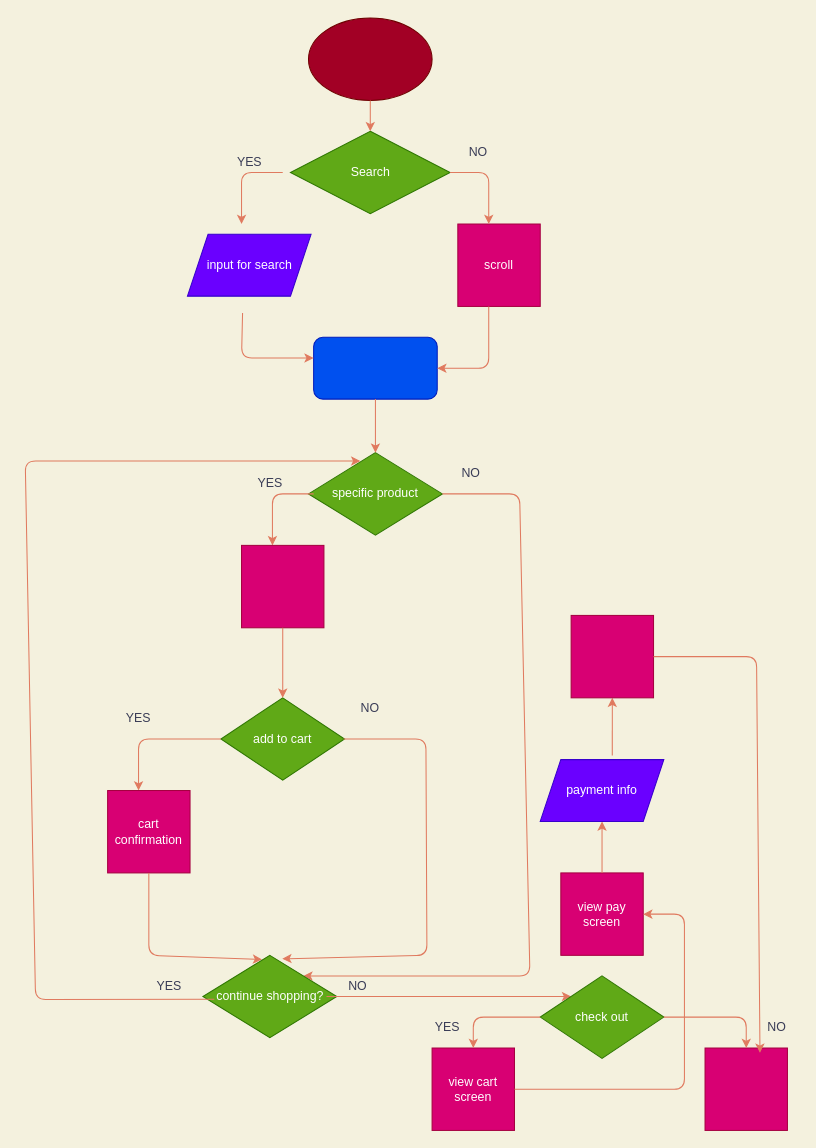
The diagram is 816 pixels wide and 1148 high, and some of its shapes have lost their labels. The shapes that lost their labels are listed below. From the top down, each one's centre as x and y in pixels, then its label:
At [369,58]: "User enters website".
At [375,367]: "browse".
At [282,586]: "product page".
At [612,656]: "order confirmation and email".
At [745,1088]: "exit site".
